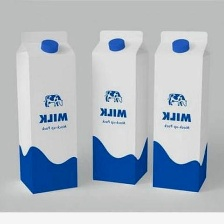carton: (14, 28, 80, 200), (83, 29, 152, 191), (150, 26, 214, 195)
